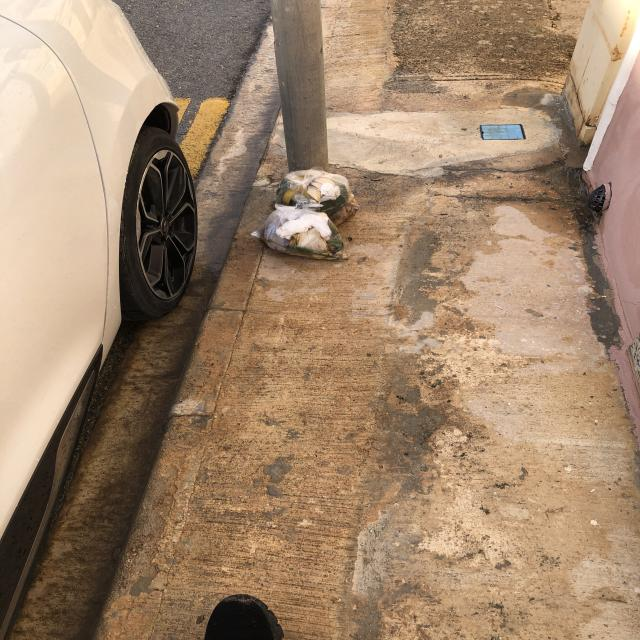Organic Waste -White Bag-: (248, 207, 349, 262), (275, 167, 362, 216)
